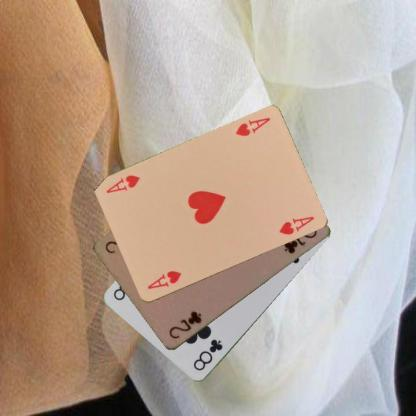2c: (166, 308, 203, 341)
8c: (191, 337, 224, 373)
Ah: (144, 268, 182, 291), (233, 115, 271, 138)
